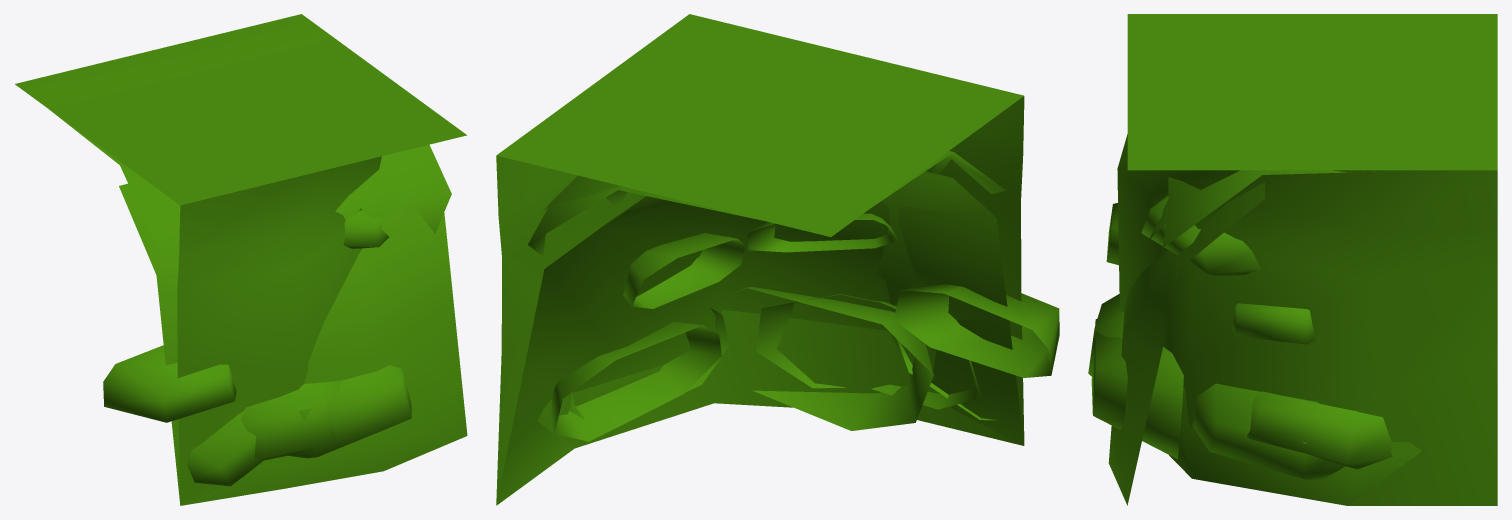
File: forest_01_pieces.fbx
The picture shows the model from 3 angles, left to right: view 1: azimuth 30°, elevation 25°; view 2: azimuth 150°, elevation 25°; view 3: azimuth 270°, elevation 25°; orthographic projection. The views are drawn at different scales.
Visible parts, largest first — view 1: forest_ledge_01-x1-top, forest_ledge_01-corner_stub-wall, Plane, forest_ledge_01-corner_stub-top; view 2: forest_ledge_01-corner_stub-top, Plane, forest_ledge_01-x1-top, forest_ledge_01-corner_stub-wall; view 3: forest_ledge_01-corner_stub-wall, Plane, forest_ledge_01-x1-top, forest_ledge_01-corner_stub-top.
Boxes of the visible parts, x1,y1,x2,y2 form: forest_ledge_01-x1-top: [33, 14, 467, 505]; forest_ledge_01-corner_stub-wall: [177, 156, 388, 505]; Plane: [48, 16, 466, 205]; forest_ledge_01-corner_stub-top: [15, 75, 342, 505]; forest_ledge_01-corner_stub-top: [496, 151, 1007, 505]; Plane: [497, 14, 1023, 232]; forest_ledge_01-x1-top: [496, 127, 1059, 445]; forest_ledge_01-corner_stub-wall: [496, 96, 1024, 504]; forest_ledge_01-corner_stub-wall: [1117, 134, 1497, 505]; Plane: [1127, 14, 1497, 170]; forest_ledge_01-x1-top: [1091, 14, 1497, 505]; forest_ledge_01-corner_stub-top: [1088, 14, 1496, 505].
Bounding box in the file's own units: 127 × 102 × 111.
